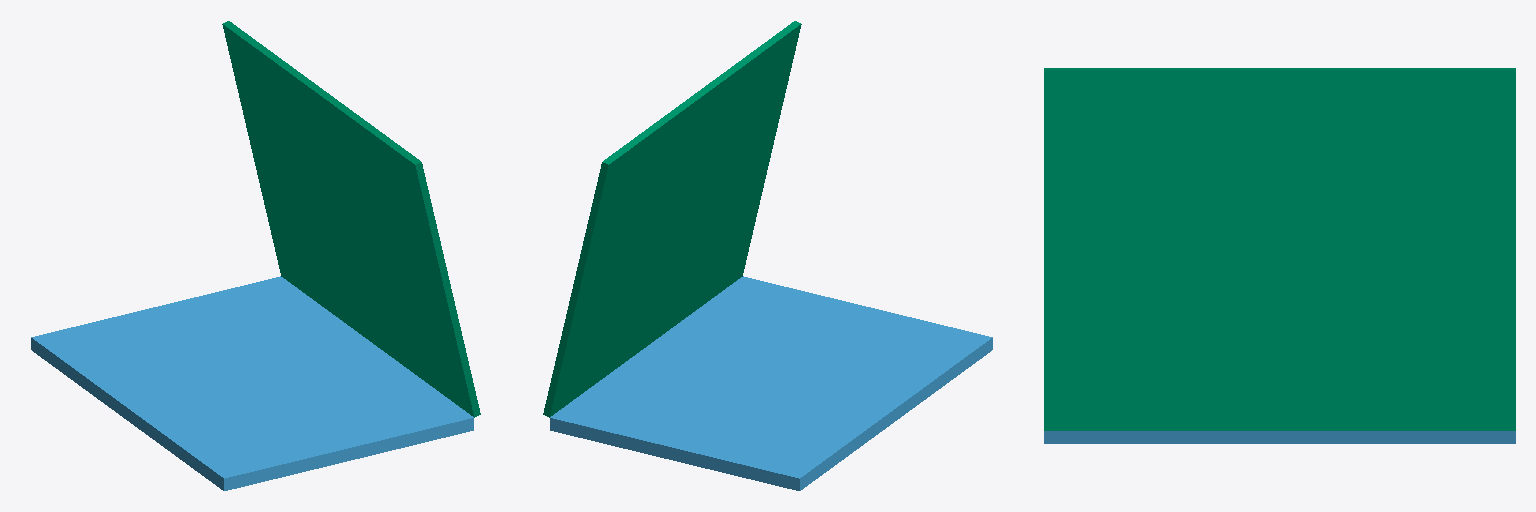
robot.urdf — procedural_laptop_4:
<?xml version="1.0" ?>
<robot name="procedural_laptop_4">
  <link name="root">
    <inertial>
      <origin xyz="0 0 0" rpy="0 0 0"/>
      <mass value="0.01"/>
      <inertia ixx="1e-6" ixy="0" ixz="0" iyy="1e-6" iyz="0" izz="1e-6"/>
    </inertial>
  </link>

  <joint name="base_fixed" type="fixed">
    <parent link="yaw_link"/>
    <child link="bottom"/>
    <origin xyz="0 0 0" rpy="0 0 0"/>
  </joint>

  <link name="bottom">
    <inertial>
      <origin xyz="0.0 0.0 0.0051908768078129715" rpy="0 0 0"/>
      <mass value="1.0"/>
      <inertia ixx="1e-4" ixy="0" ixz="0" iyy="1e-4" iyz="0" izz="1e-4"/>
    </inertial>

    <visual>
      <origin xyz="0.0 0.0 0.0051908768078129715" rpy="0 0 0"/>
      <geometry><box size="0.21223277007331232 0.2837767273985872 0.010381753615625943"/></geometry>
    </visual>
    <collision>
      <origin xyz="0.0 0.0 0.0051908768078129715" rpy="0 0 0"/>
      <geometry><box size="0.21223277007331232 0.2837767273985872 0.010381753615625943"/></geometry>
    </collision>
  </link>

  <joint name="rotation" type="revolute">
    <parent link="bottom"/>
    <child link="top"/>
    <origin xyz="0.10611638503665616 0 0.010381753615625943" rpy="0 0 0"/>
    <axis xyz="0 1 0"/>
    <dynamics damping="2.0" friction="0.5"/>
    <limit effort="50.0" velocity="50.0" lower="0.087" upper="2.6"/>
  </joint>

  <link name="top">
    <inertial>
      <origin xyz="-0.11110437670119211 0.0 0.0028551372489647986" rpy="0 0 0"/>
      <mass value="0.2"/>
      <inertia ixx="1e-4" ixy="0" ixz="0" iyy="1e-4" iyz="0" izz="1e-4"/>
    </inertial>

    <visual>
      <origin xyz="-0.11110437670119211 0.0 0.0028551372489647986" rpy="0 0 0"/>
      <geometry><box size="0.22220875340238422 0.2837767273985872 0.005710274497929597"/></geometry>
    </visual>
    <collision>
      <origin xyz="-0.11110437670119211 0.0 0.0028551372489647986" rpy="0 0 0"/>
      <geometry><box size="0.22220875340238422 0.2837767273985872 0.005710274497929597"/></geometry>
    </collision>
  </link>

  <link name="tx_link">
    <inertial>
      <origin xyz="0 0 0" rpy="0 0 0"/>
      <mass value="0.01"/>
      <inertia ixx="1e-6" ixy="0" ixz="0" iyy="1e-6" iyz="0" izz="1e-6"/>
    </inertial>
  </link>

  <joint name="tx_joint" type="prismatic">
    <parent link="root"/>
    <child link="tx_link"/>
    <axis xyz="1 0 0"/>
    <limit lower="-5.0" upper="5.0" effort="50" velocity="1"/>
  </joint>
  <link name="ty_link">
    <inertial>
      <origin xyz="0 0 0" rpy="0 0 0"/>
      <mass value="0.01"/>
      <inertia ixx="1e-6" ixy="0" ixz="0" iyy="1e-6" iyz="0" izz="1e-6"/>
    </inertial>
  </link>

  <joint name="ty_joint" type="prismatic">
    <parent link="tx_link"/>
    <child link="ty_link"/>
    <axis xyz="0 1 0"/>
    <limit lower="-5.0" upper="5.0" effort="50" velocity="1"/>
  </joint>
  <link name="tz_link">
    <inertial>
      <origin xyz="0 0 0" rpy="0 0 0"/>
      <mass value="0.01"/>
      <inertia ixx="1e-6" ixy="0" ixz="0" iyy="1e-6" iyz="0" izz="1e-6"/>
    </inertial>
  </link>

  <joint name="tz_joint" type="prismatic">
    <parent link="ty_link"/>
    <child link="tz_link"/>
    <axis xyz="0 0 1"/>
    <limit lower="-5.0" upper="5.0" effort="50" velocity="1"/>
  </joint>
  <link name="roll_link">
    <inertial>
      <origin xyz="0 0 0" rpy="0 0 0"/>
      <mass value="0.01"/>
      <inertia ixx="1e-6" ixy="0" ixz="0" iyy="1e-6" iyz="0" izz="1e-6"/>
    </inertial>
  </link>

  <joint name="roll_joint" type="revolute">
    <parent link="tz_link"/>
    <child link="roll_link"/>
    <axis xyz="1 0 0"/>
    <limit lower="-31.41592653589793" upper="31.41592653589793" effort="50" velocity="1"/>
  </joint>
  <link name="pitch_link">
    <inertial>
      <origin xyz="0 0 0" rpy="0 0 0"/>
      <mass value="0.01"/>
      <inertia ixx="1e-6" ixy="0" ixz="0" iyy="1e-6" iyz="0" izz="1e-6"/>
    </inertial>
  </link>

  <joint name="pitch_joint" type="revolute">
    <parent link="roll_link"/>
    <child link="pitch_link"/>
    <axis xyz="0 1 0"/>
    <limit lower="-31.41592653589793" upper="31.41592653589793" effort="50" velocity="1"/>
  </joint>
  <link name="yaw_link">
    <inertial>
      <origin xyz="0 0 0" rpy="0 0 0"/>
      <mass value="0.01"/>
      <inertia ixx="1e-6" ixy="0" ixz="0" iyy="1e-6" iyz="0" izz="1e-6"/>
    </inertial>
  </link>

  <joint name="yaw_joint" type="revolute">
    <parent link="pitch_link"/>
    <child link="yaw_link"/>
    <axis xyz="0 0 1"/>
    <limit lower="-31.41592653589793" upper="31.41592653589793" effort="50" velocity="1"/>
  </joint>

</robot>

--- Facts derived from the render (not from the file) ---
The picture shows the robot from 3 angles, left to right: view 1: azimuth 30°, elevation 25°; view 2: azimuth 150°, elevation 25°; view 3: azimuth 270°, elevation 25°; orthographic projection.
Model procedural_laptop_4 with 9 links and 8 joints (4 revolute, 3 prismatic, 1 fixed), rooted at root, posed all joints at 0 but 1 set to mid-range because 0 is outside their limits (rotation = 1.34).
Visible links, largest first — view 1: bottom, top; view 2: bottom, top; view 3: top, bottom.
Link boxes in pixels (x1,y1,x2,y2): bottom: [31, 276, 473, 490]; top: [222, 21, 480, 417]; bottom: [550, 276, 992, 490]; top: [543, 21, 801, 417]; top: [1044, 68, 1515, 430]; bottom: [1044, 431, 1515, 443].
Bounding box of the posed robot: 0.2178 × 0.2838 × 0.2282 m (x, y, z).
Geometry: primitives only (box / cylinder / sphere), no mesh files.
